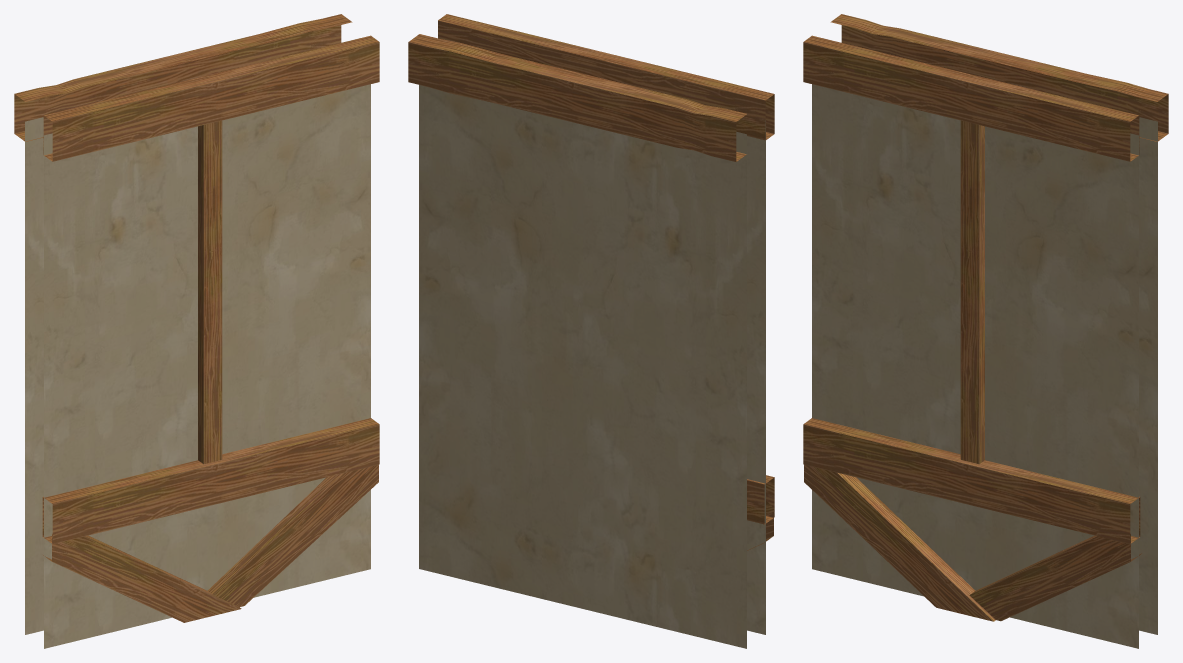
The model's file is wall_plaster_straight.glb.
3 views of the same model, side by side, from view 1: azimuth 30°, elevation 25°; view 2: azimuth 150°, elevation 25°; view 3: azimuth 330°, elevation 25° (orthographic).
Visible parts, largest first — view 1: Wall_Plaster_Straight; view 2: Wall_Plaster_Straight; view 3: Wall_Plaster_Straight.
Boxes of the visible parts, <box> form: Wall_Plaster_Straight: <box>14,14,379,648</box>; Wall_Plaster_Straight: <box>408,14,774,648</box>; Wall_Plaster_Straight: <box>803,14,1168,648</box>.
Bounding box in the file's own units: 2 × 3.12 × 0.4066.
2 materials, 2 textured.
